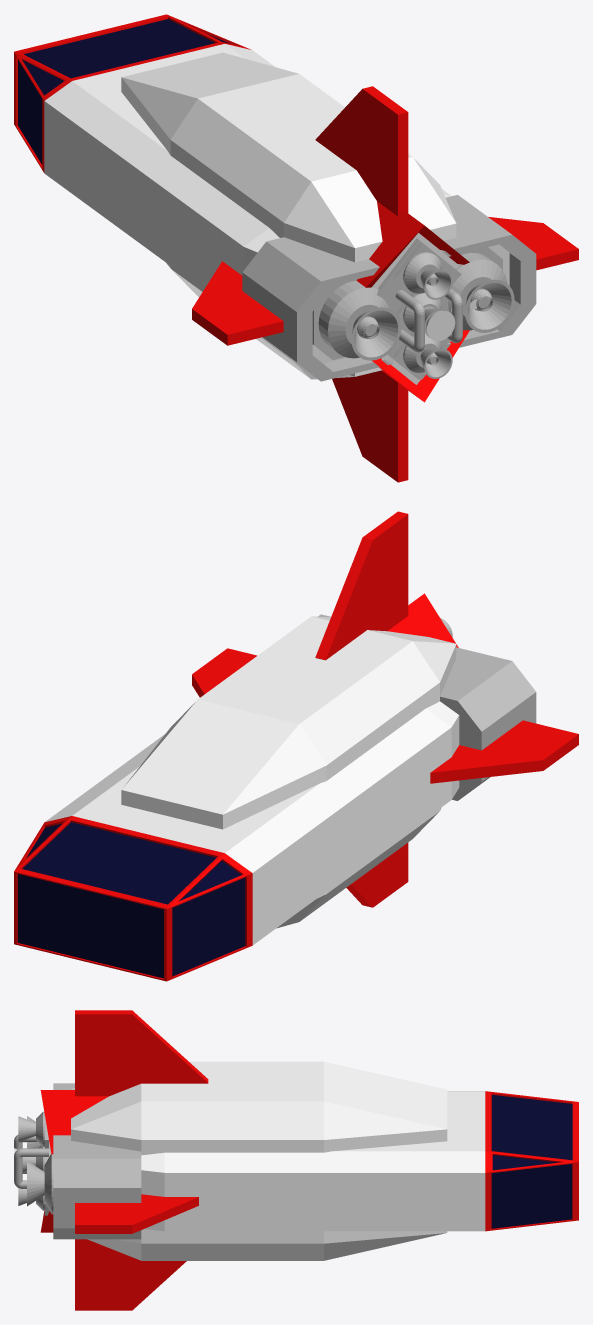
The model's file is Spaceship2.fbx.
3 renders of one model, top to bottom at view 1: azimuth 30°, elevation 25°; view 2: azimuth 150°, elevation 25°; view 3: azimuth 270°, elevation 25°, orthographic. The views are drawn at different scales.
Parts seen in each view (by area): view 1: Cube.015, Body, Cube.012, BodyGlass, Cube.017, Cube.018, Cube.013, Fin, Cube.011, BodyTop, Cylinder.006, Cube.019 (+13 smaller); view 2: Cube.015, Body, BodyGlass, Cube.017, Cube.012, BodyTop, Fin, Cube.018, Cube.011, Cube.019; view 3: Cube.015, Body, BodyGlass, Cube.017, Cube.013, Cube.018, Cube.019, BodyTop, Cube.011, Cone.005, Cube.001, Cylinder.009.
Boxes of the visible parts, <box> form: Cube.015: <box>121,52,456,379</box>; Body: <box>44,44,451,289</box>; Cube.012: <box>242,237,392,381</box>; BodyGlass: <box>18,19,229,164</box>; Cube.017: <box>315,86,408,215</box>; Cube.018: <box>332,370,408,482</box>; Cube.013: <box>440,195,536,349</box>; Fin: <box>192,261,283,345</box>; Cube.011: <box>356,201,469,402</box>; BodyTop: <box>14,14,251,172</box>; Cylinder.006: <box>318,280,389,358</box>; Cube.019: <box>488,217,578,270</box>; Cube.015: <box>121,616,456,928</box>; Body: <box>45,701,459,945</box>; BodyGlass: <box>17,822,245,978</box>; Cube.017: <box>315,511,408,660</box>; Cube.012: <box>440,647,536,800</box>; BodyTop: <box>14,816,252,981</box>; Fin: <box>430,720,578,783</box>; Cube.018: <box>346,842,408,907</box>; Cube.011: <box>387,593,458,647</box>; Cube.019: <box>192,648,256,697</box>; Cube.015: <box>71,1061,447,1260</box>; Body: <box>141,1091,485,1231</box>; BodyGlass: <box>491,1095,572,1228</box>; Cube.017: <box>75,1010,208,1096</box>; Cube.013: <box>53,1135,141,1239</box>; Cube.018: <box>75,1239,186,1310</box>; Cube.019: <box>75,1194,198,1233</box>; BodyTop: <box>485,1091,578,1231</box>; Cube.011: <box>40,1090,108,1232</box>; Cone.005: <box>27,1160,44,1206</box>; Cube.001: <box>14,1148,48,1188</box>; Cylinder.009: <box>44,1154,53,1214</box>.
Bounding box in the file's own units: 1858 × 1858 × 3212.
